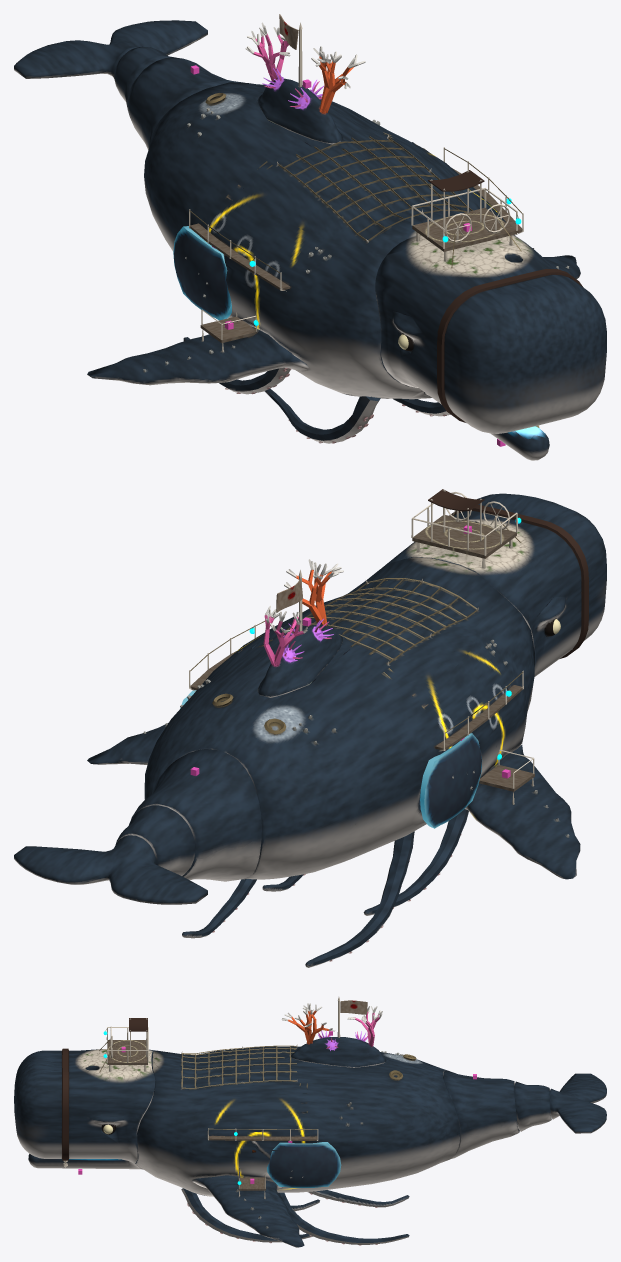
File: leviatan_estelar.fbx
3 renders of one model, top to bottom at view 1: azimuth 30°, elevation 25°; view 2: azimuth 150°, elevation 25°; view 3: azimuth 270°, elevation 25°, orthographic. The views are drawn at different scales.
Parts seen in each view (by area): view 1: Cuerpo_Principal, Cabeza, Aleta_Pectoral_Der, Aleta_Dorsal, Cola_Punta, Cola_Base, Placa_Opercular_Der, Tentaculo_2, Cola_Media, Mandibula_Inf, Tentaculo_4; view 2: Cuerpo_Principal, Cabeza, Cola_Base, Aleta_Pectoral_Der, Cola_Punta, Aleta_Dorsal, Placa_Opercular_Der, Cola_Media, Tentaculo_4, Tentaculo_2, Aleta_Pectoral_Izq, Tentaculo_3; view 3: Cuerpo_Principal, Cabeza, Cola_Base, Aleta_Pectoral_Izq, Aleta_Dorsal, Placa_Opercular_Izq, Cola_Punta, Cola_Media, Tentaculo_1, Tentaculo_3, Mandibula_Inf, Tentaculo_4.
Boxes of the visible parts, x1,y1,x2,y2 form: Cuerpo_Principal: [144, 82, 523, 399]; Cabeza: [375, 170, 606, 433]; Aleta_Pectoral_Der: [87, 309, 308, 385]; Aleta_Dorsal: [245, 14, 365, 144]; Cola_Punta: [14, 20, 207, 79]; Cola_Base: [127, 57, 242, 149]; Placa_Opercular_Der: [173, 226, 231, 320]; Tentaculo_2: [264, 388, 380, 443]; Cola_Media: [114, 46, 175, 107]; Mandibula_Inf: [425, 393, 549, 460]; Tentaculo_4: [183, 337, 291, 394]; Cuerpo_Principal: [144, 557, 534, 879]; Cabeza: [381, 489, 606, 676]; Cola_Base: [130, 749, 261, 881]; Aleta_Pectoral_Der: [465, 745, 580, 879]; Cola_Punta: [14, 835, 207, 904]; Aleta_Dorsal: [257, 559, 343, 697]; Placa_Opercular_Der: [420, 733, 482, 828]; Cola_Media: [115, 805, 195, 875]; Tentaculo_4: [305, 831, 414, 967]; Tentaculo_2: [363, 809, 468, 915]; Aleta_Pectoral_Izq: [87, 723, 168, 764]; Tentaculo_3: [182, 879, 256, 938]; Cuerpo_Principal: [135, 1044, 460, 1196]; Cabeza: [14, 1018, 155, 1167]; Cola_Base: [443, 1070, 519, 1159]; Aleta_Pectoral_Izq: [192, 1168, 304, 1247]; Aleta_Dorsal: [281, 997, 386, 1067]; Placa_Opercular_Izq: [267, 1142, 341, 1187]; Cola_Punta: [549, 1073, 606, 1133]; Cola_Media: [514, 1081, 551, 1131]; Tentaculo_1: [181, 1188, 313, 1243]; Tentaculo_3: [278, 1192, 409, 1245]; Mandibula_Inf: [28, 1154, 143, 1169]; Tentaculo_4: [308, 1190, 409, 1207].
Bounding box in the file's own units: 26.69 × 18.75 × 43.8.
Materials: 2 (1 with a texture image).
